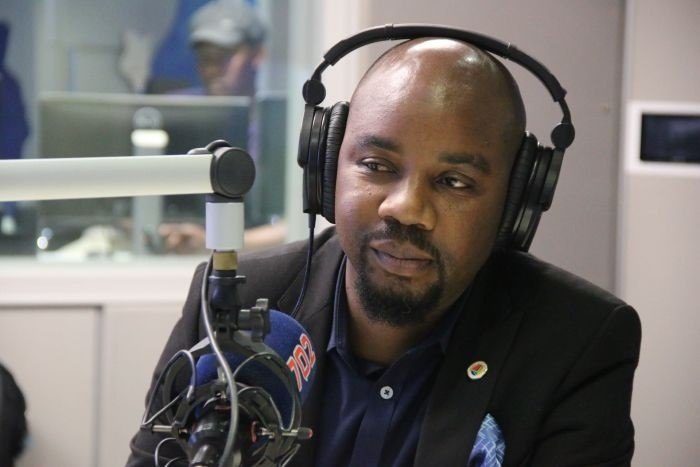face_no_mask: (334, 35, 527, 325)
